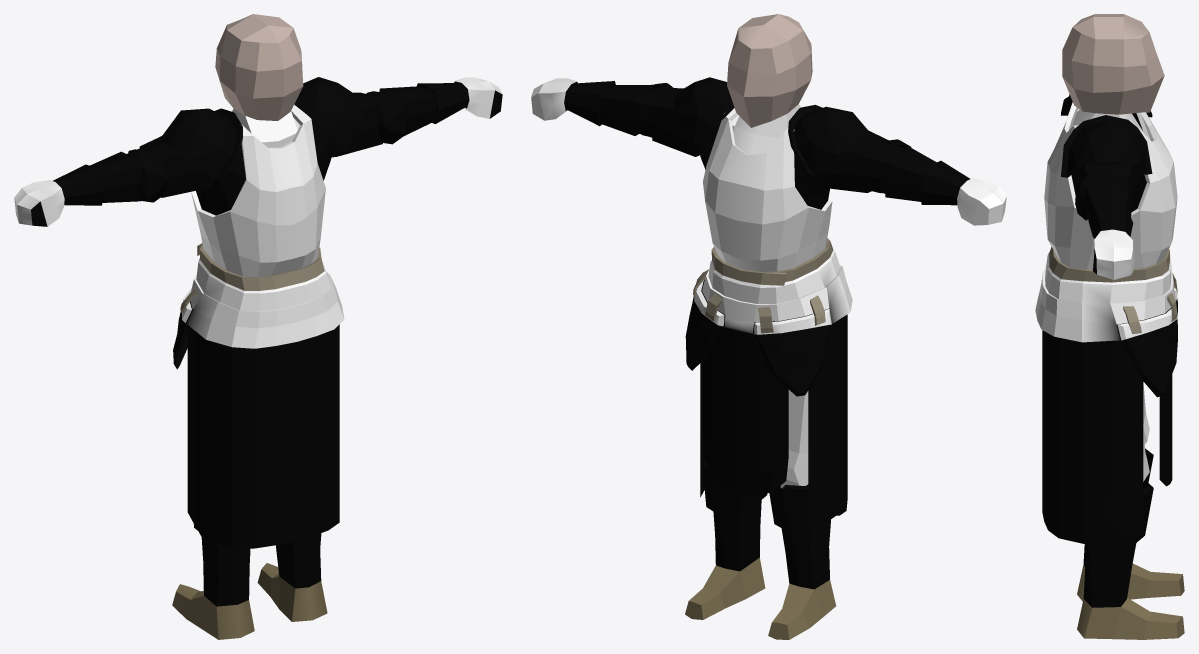
File: Soldierarmour.fbx
The picture shows the model from 3 angles, left to right: view 1: azimuth 30°, elevation 25°; view 2: azimuth 150°, elevation 25°; view 3: azimuth 270°, elevation 25°; orthographic projection. The views are drawn at different scales.
Visible parts, largest first — view 1: SoldierBak_polySurface3; view 2: SoldierBak_polySurface3; view 3: SoldierBak_polySurface3.
Part boxes in pixels (left/top/right/bottom): SoldierBak_polySurface3: left=14, top=14, right=502, bottom=639; SoldierBak_polySurface3: left=531, top=14, right=1006, bottom=639; SoldierBak_polySurface3: left=1035, top=14, right=1184, bottom=639.
Bounding box in the file's own units: 3.66 × 4.34 × 0.9858.
